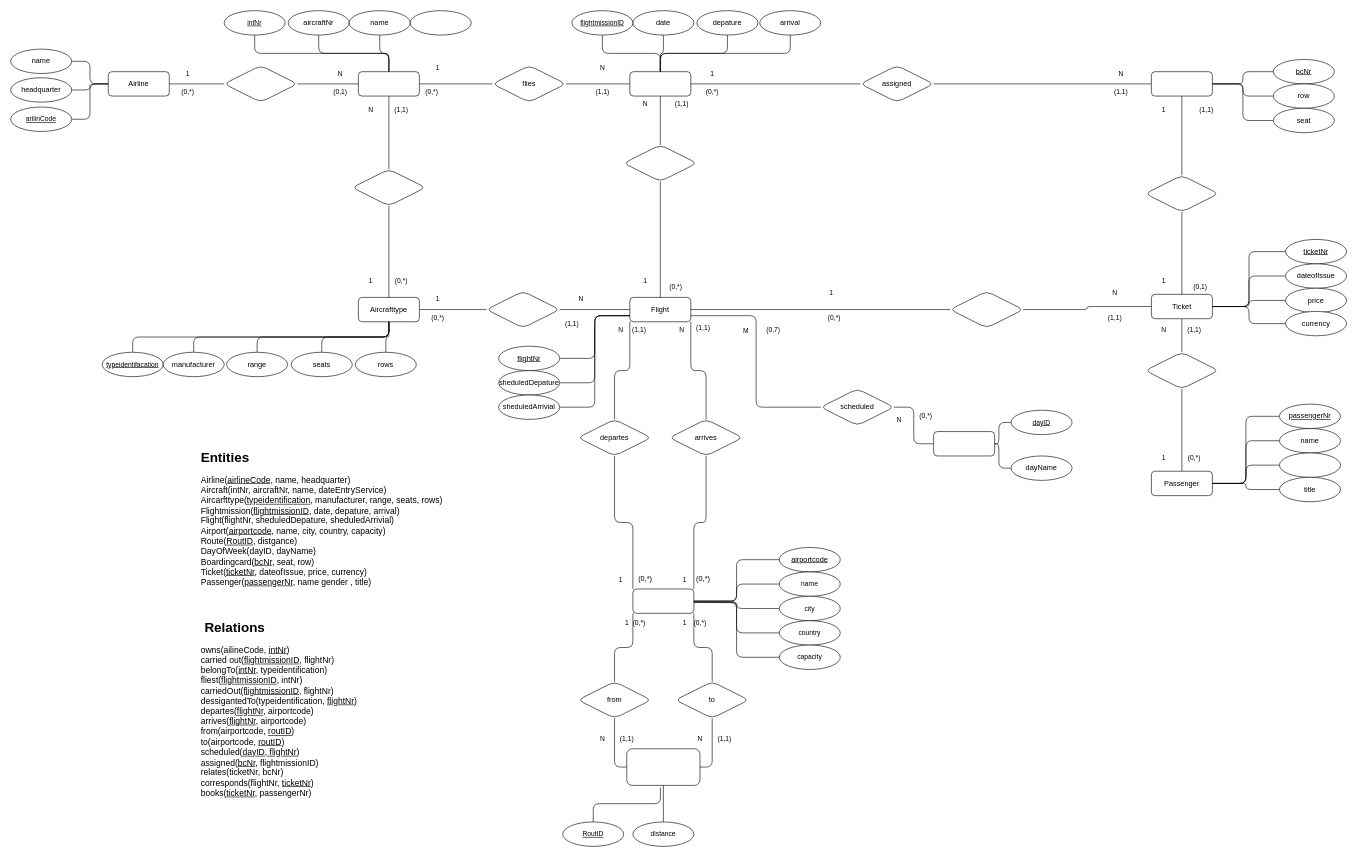
The diagram is 1357 pixels wide and 857 high, and some of its shapes have lost their labels. Here are the shapes that lost their labels. From the top down, the centre of each, then its label:
point 440,22: dateEntryService
point 260,83: owns
point 388,83: Aircraft
point 660,83: Flightmission
point 1181,83: Boardingcard
point 660,162: carriedOut
point 388,187: belongTo
point 1181,193: relates
point 523,309: dessignatedTo
point 986,309: corresponds
point 1181,370: books
point 964,443: DayOfWeek
point 1309,464: gender
point 663,600: Airport
point 663,766: Route
